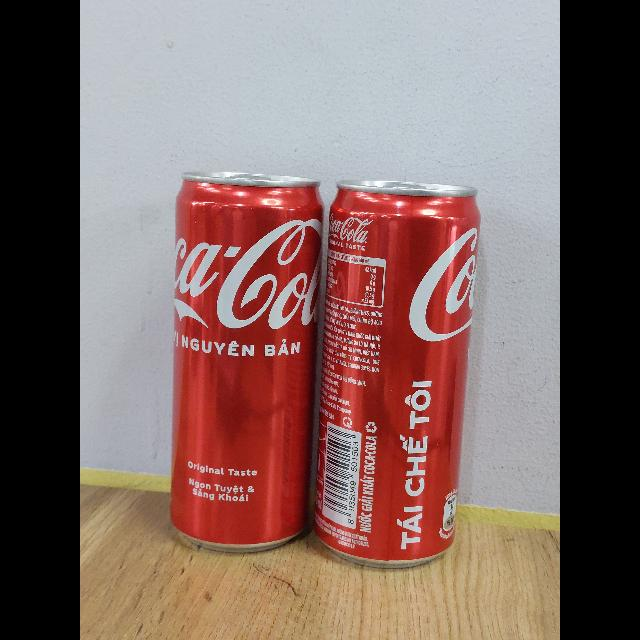coca_cola: (312, 181, 481, 569), (169, 175, 326, 555)
